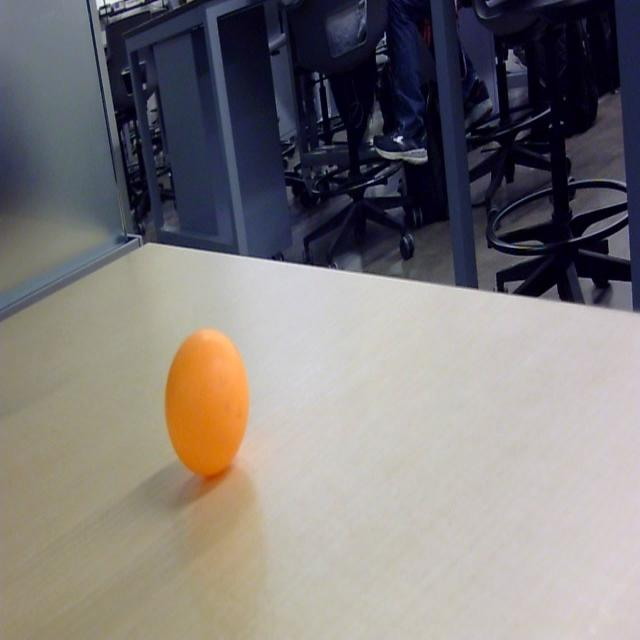ball: (163, 328, 250, 481)
